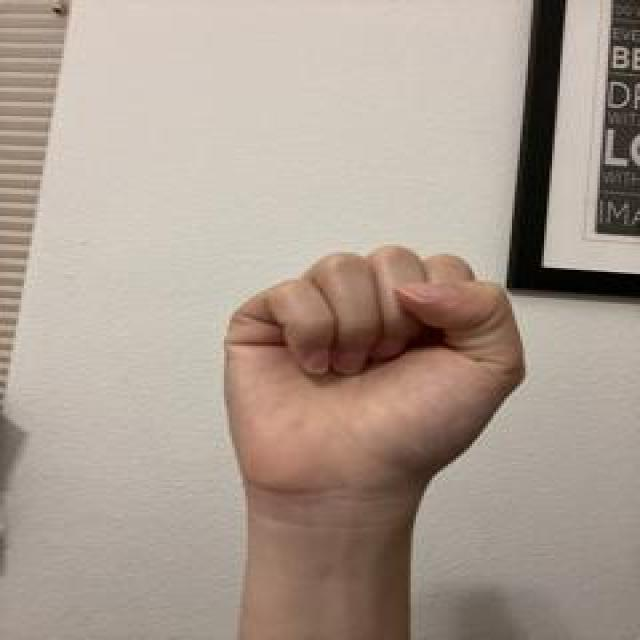S: (212, 238, 537, 504)
